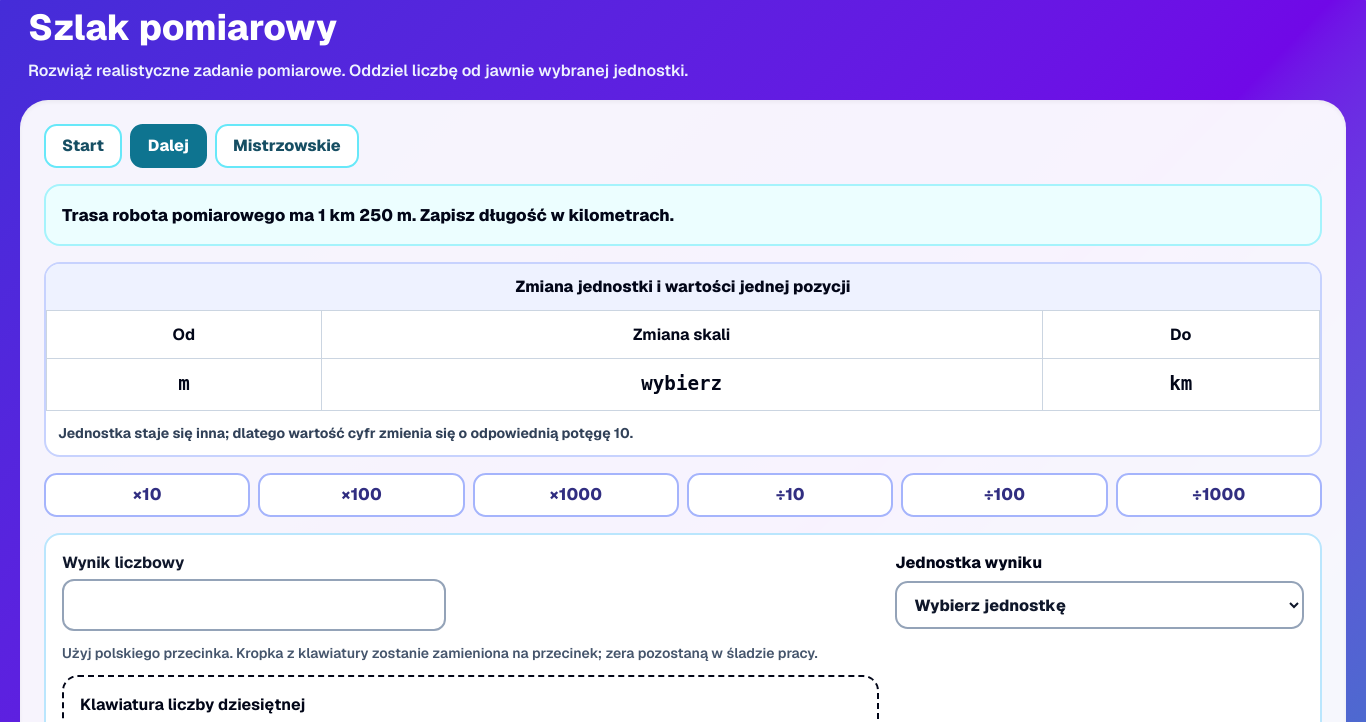
DecimalMeasurementL1Lab przez lokalny adapter decimal-notation-l1 › rozwiązuje realistyczną historię trasy z jawną jednostką
This screenshot has width=1366, height=722.
Expected: the text "Trasa robota pomiarowego ma 1 km 250 m" is shown, [62,204,674,226]
Click the button "÷1000".
click(1219, 495)  # box [1116,473,1322,517]
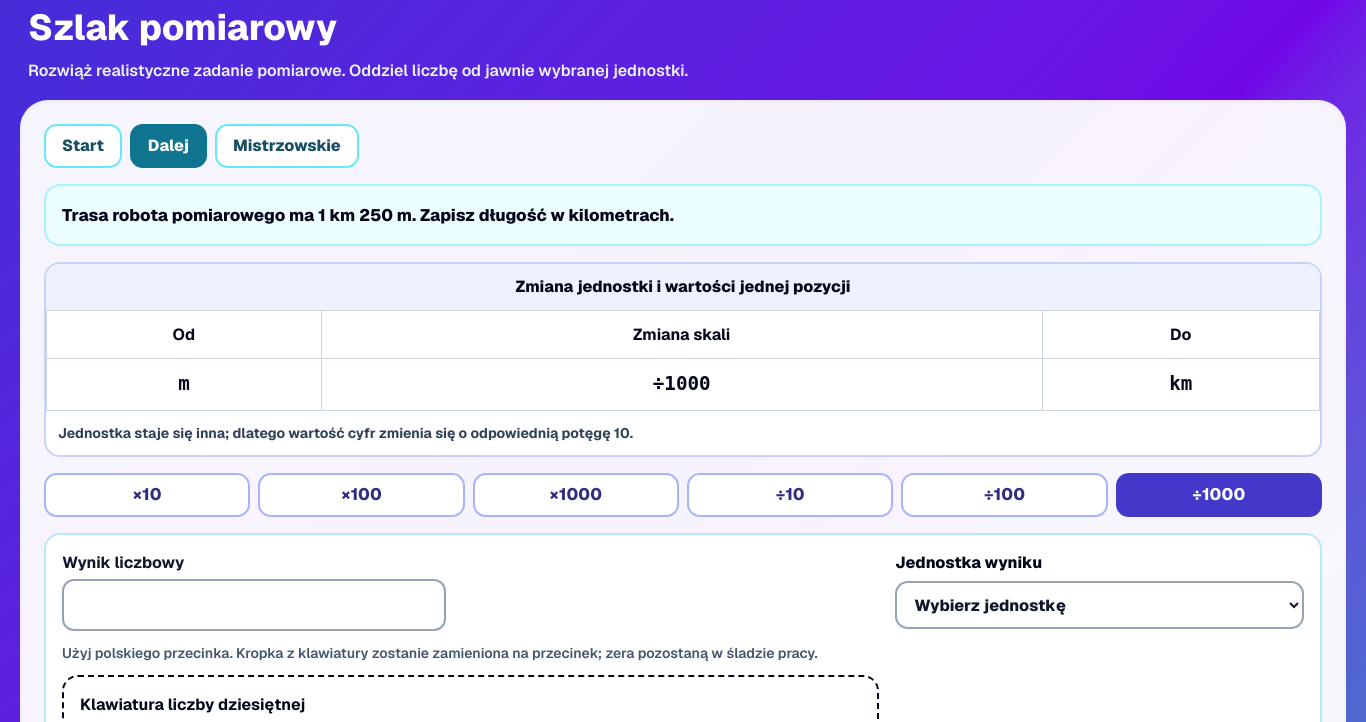
Type "1,25" into the field labelled "Wynik liczbowy".
click(254, 605); type("1,25")  # box [62,579,446,631]
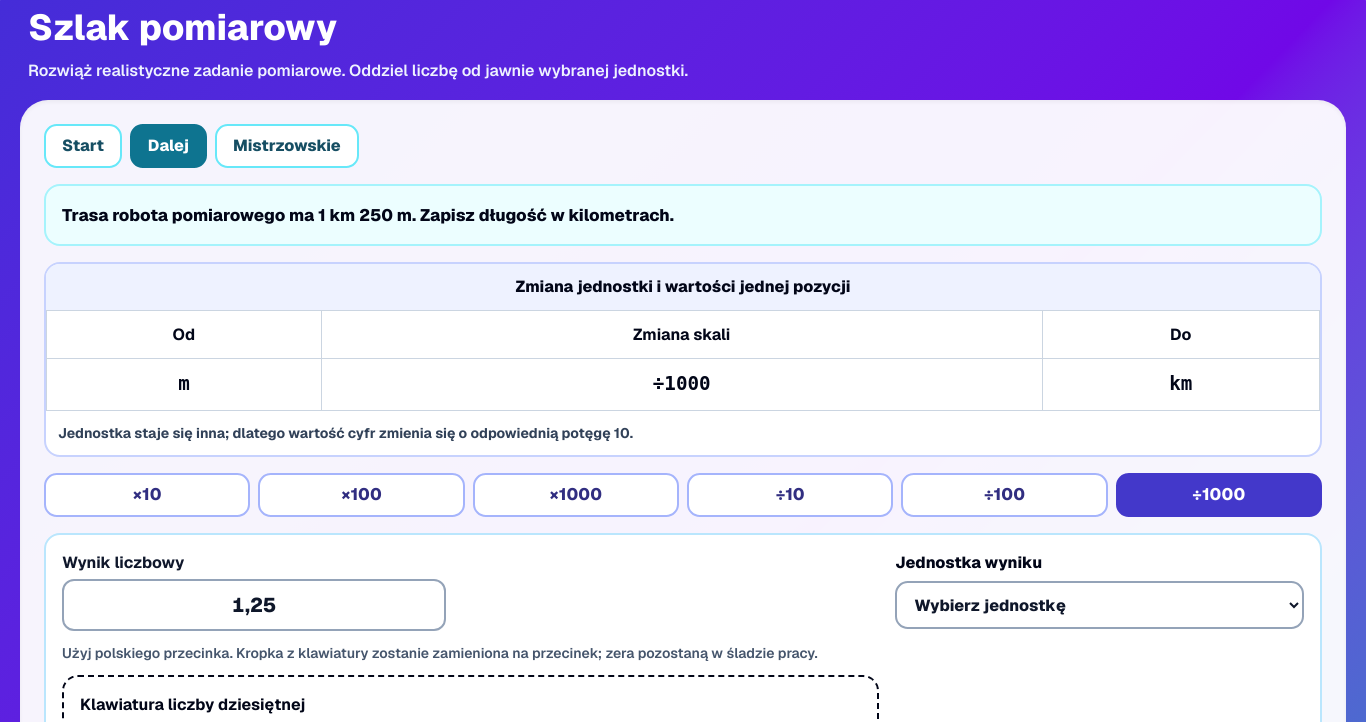
Select "km — kilometry" in the dropdown labelled "Jednostka wyniku" at (1100, 605), box [895,581,1304,629]
(page scrolled)
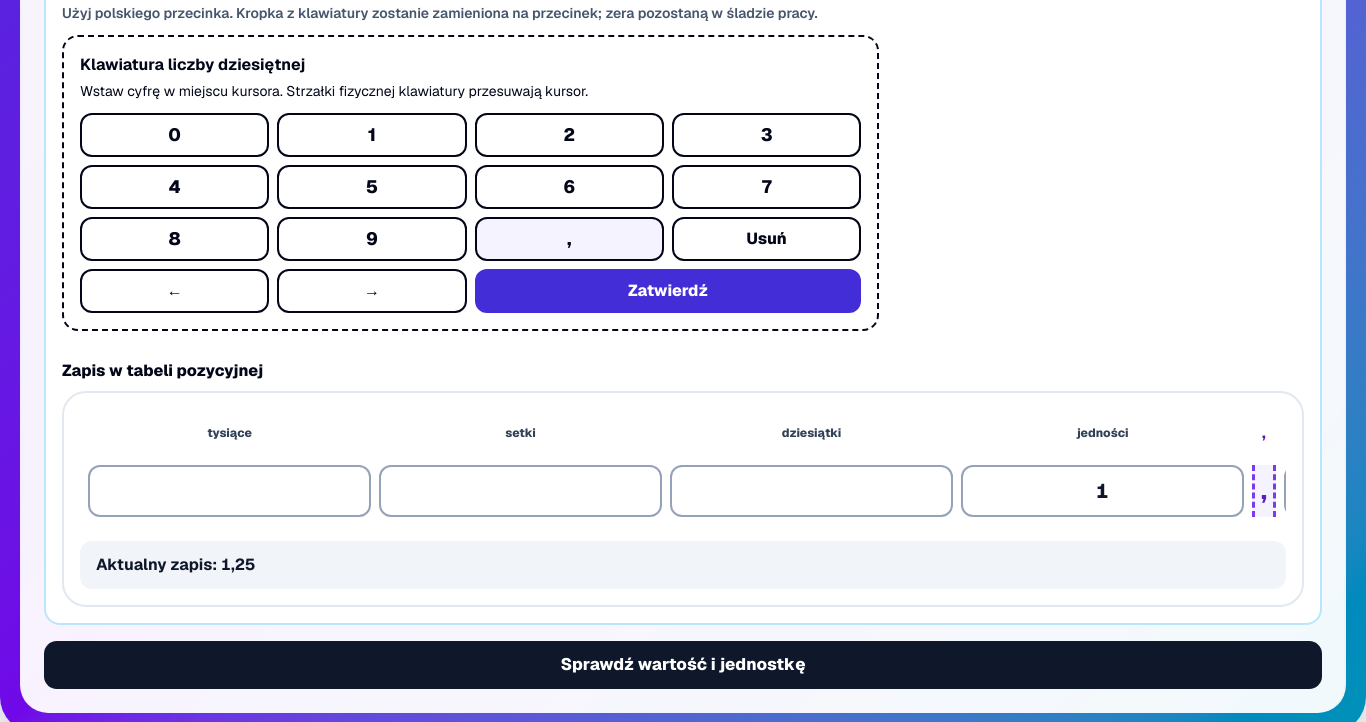
Click the button "Sprawdź wartość i jednostkę".
click(683, 665)  # box [44,641,1322,689]
(page scrolled)
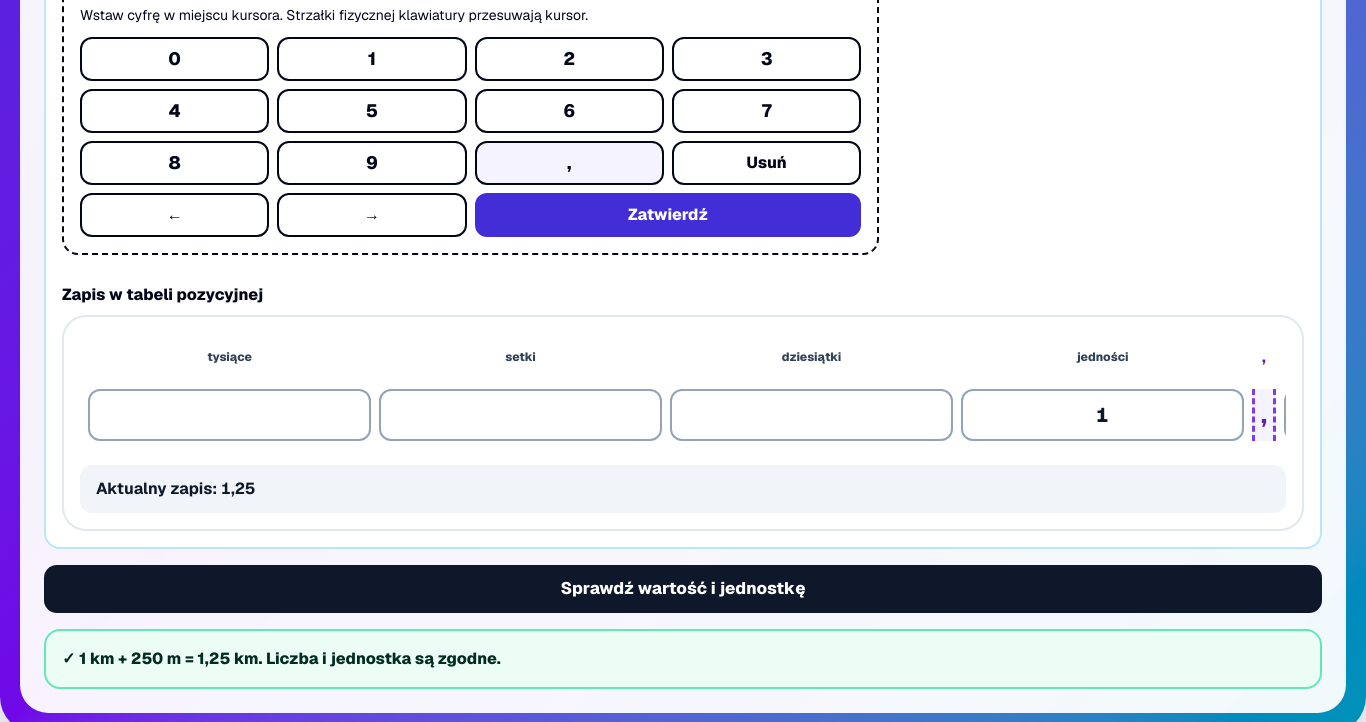
Expected: the message shows "1 km + 250 m = 1,25 km", [79,648,501,668]
